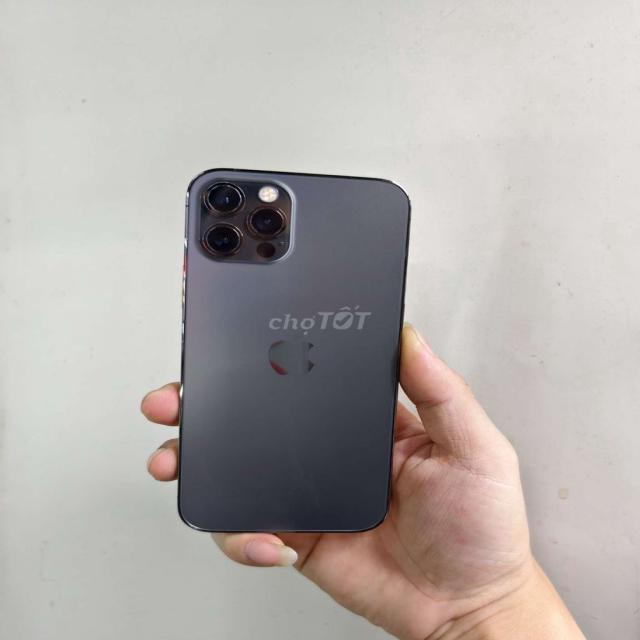gen_12_13: (171, 152, 428, 544)
